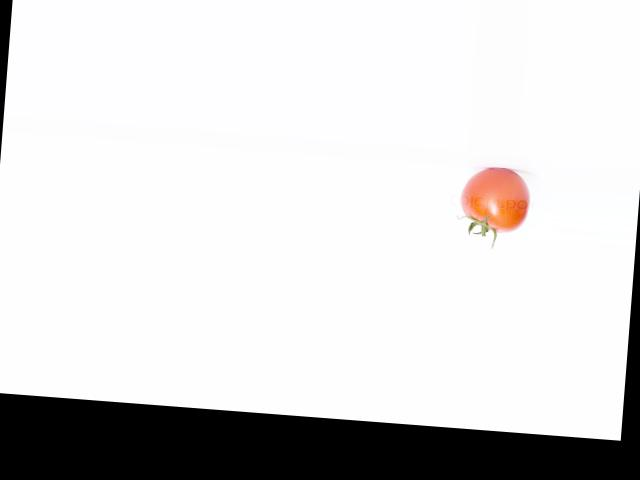tomato: (459, 166, 532, 234)
